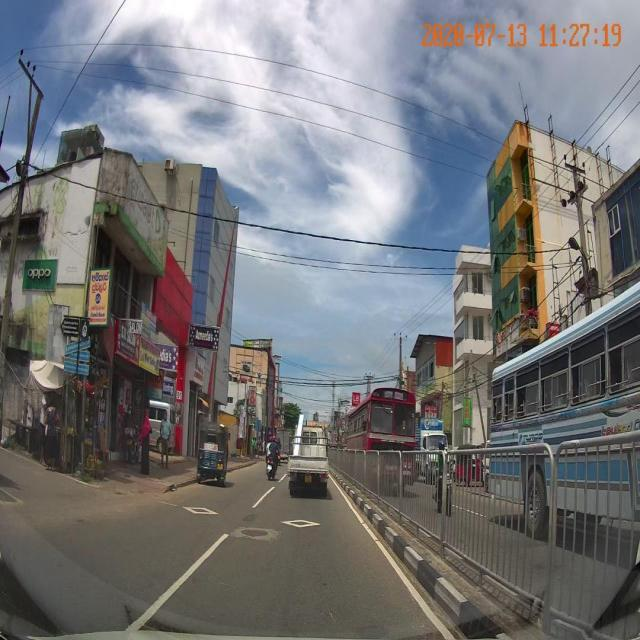Liniya 1: (329, 474, 457, 640), (123, 533, 230, 632), (251, 486, 276, 509)
Romb: (281, 515, 319, 529), (184, 505, 218, 516)
